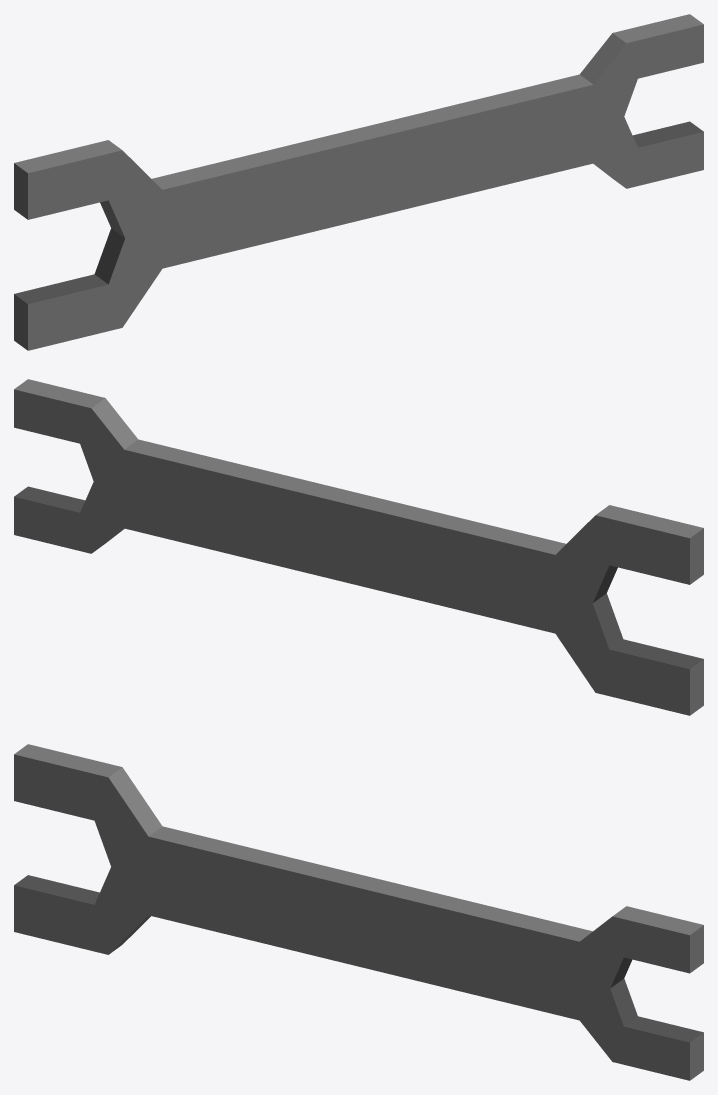
The model's file is Spanner.fbx.
3 renders of one model, top to bottom at view 1: azimuth 30°, elevation 25°; view 2: azimuth 150°, elevation 25°; view 3: azimuth 330°, elevation 25°, orthographic.
Visible parts, largest first — view 1: Spanner; view 2: Spanner; view 3: Spanner.
Boxes of the visible parts, x1,y1,x2,y2 form: Spanner: (14,14,703,350); Spanner: (14,379,703,715); Spanner: (14,744,703,1080).
Bounding box in the file's own units: 75.29 × 18.9 × 2.71.
